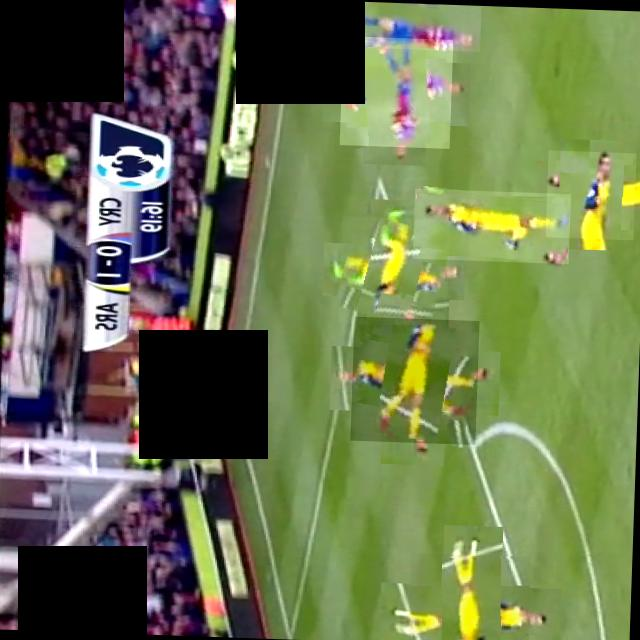soccer-player: (349, 316, 478, 444), (338, 35, 452, 148), (337, 216, 449, 326), (412, 188, 570, 264), (407, 552, 530, 640), (319, 0, 480, 51), (544, 150, 635, 240)
